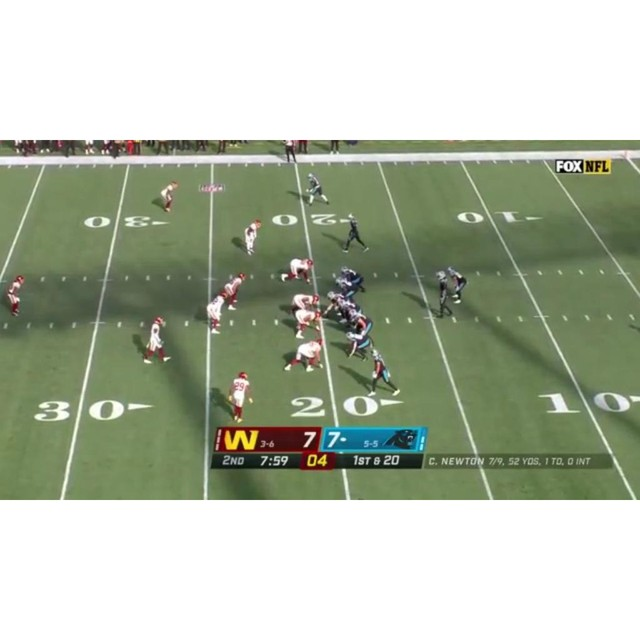american-football-player: (282, 338, 325, 373), (368, 349, 400, 395), (143, 315, 170, 362), (228, 371, 252, 423), (206, 288, 231, 334), (342, 213, 369, 253), (434, 269, 455, 319), (280, 258, 315, 286), (291, 309, 322, 340), (285, 294, 321, 319), (345, 329, 372, 362), (224, 272, 245, 310), (446, 266, 467, 304), (305, 172, 329, 205), (6, 275, 25, 315), (243, 219, 262, 255), (159, 181, 178, 212)
